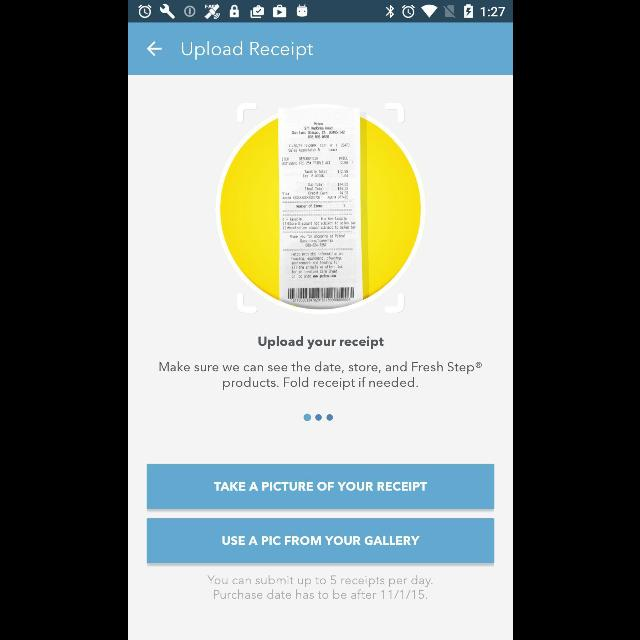icon: (146, 41, 162, 57)
image: (213, 103, 425, 314)
pageindicator: (302, 412, 334, 422)
text: (158, 362, 482, 391), (206, 574, 432, 600), (181, 40, 313, 60), (257, 336, 383, 350)
textbutton: (146, 464, 494, 510), (146, 518, 494, 564)
toolbar: (128, 23, 512, 75)
uppertaskbar: (128, 1, 512, 23)
